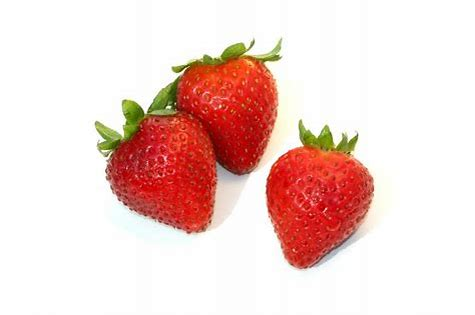strawberry: (265, 137, 376, 270), (105, 108, 219, 236), (175, 47, 278, 177)
